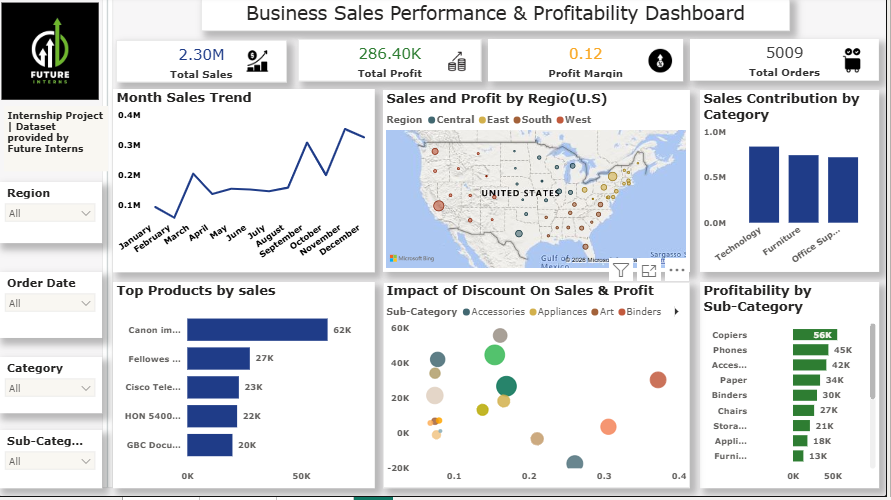

What the dashboard file says about the page in this screenshot:
{"tool":"powerbi","page":{"name":"Page 2","canvas":[1280,720],"ordinal":1},"visuals":[{"type":"textbox","box":[292.3,0,848.2,49],"z":0},{"type":"shape","box":[150,0,15.7,707.1],"z":1000},{"type":"slicer","fields":{"Values":["Sample Superstore.Region"]},"box":[0,266.4,149.8,87.8],"z":2000},{"type":"slicer","fields":{"Values":["Sample Superstore.Order Date"]},"box":[0,396,149.8,95],"z":3000},{"type":"slicer","fields":{"Values":["Sample Superstore.Category"]},"box":[0,518.4,149.8,80.6],"z":4000},{"type":"slicer","fields":{"Values":["Sample Superstore.Sub-Category"]},"box":[0,623.5,149.8,83.5],"z":5000},{"type":"card","fields":{"Values":["Sample Superstore.Total Sales"]},"box":[170,61.4,245.7,61.4],"z":6000},{"type":"card","fields":{"Values":["Sample Superstore.Total Profit"]},"box":[431.4,60,264.3,61.4],"z":7000},{"type":"card","fields":{"Values":["Sample Superstore.Profit Margin"]},"box":[705.7,60,281.4,61.4],"z":8000},{"type":"card","fields":{"Values":["Sample Superstore.Total Orders"]},"box":[996.5,60.5,272.2,60.5],"z":9000},{"type":"image","box":[351.4,67.1,44.3,48.6],"z":10000},{"type":"image","box":[639.4,69.1,43.2,47.5],"z":11000},{"type":"image","box":[931.4,67.1,44.3,48.6],"z":12000},{"type":"image","box":[1206.7,67.7,44.6,47.5],"z":13000},{"type":"lineChart","title":" Month Sales Trend","fields":{"Category":["Sample Superstore.Order Date.Variation.Date Hierarchy.Year","Sample Superstore.Order Date.Variation.Date Hierarchy.Month"],"Y":["Sum(Sample Superstore.Sales)"]},"box":[165.6,132.5,377.3,263.5],"z":14000},{"type":"map","title":"Sales and  Profit by Regio(U.S)","fields":{"Category":["Sample Superstore.State"],"Series":["Sample Superstore.Region"],"Size":["Sum(Sample Superstore.Sales)"]},"box":[554.4,133.9,442.1,262.1],"z":15000},{"type":"columnChart","title":"Sales Contribution by Category","fields":{"Category":["Sample Superstore.Category"],"Y":["Sum(Sample Superstore.Sales)"]},"box":[1010.9,133.9,257.8,262.1],"z":16000},{"type":"barChart","title":"Top Products by sales","fields":{"Category":["Sample Superstore.Product Name"],"Y":["Sum(Sample Superstore.Sales)"]},"box":[165.6,410.4,377.3,296.6],"z":17000},{"type":"clusteredBarChart","title":"Profitability by  Sub-Category","fields":{"Category":["Sample Superstore.Sub-Category"],"Y":["Sum(Sample Superstore.Profit)"]},"box":[1010.9,410.4,257.8,296.6],"z":18000},{"type":"scatterChart","title":"Impact of Discount On Sales & Profit","fields":{"X":["Avg(Sample Superstore.Discount)"],"Y":["Sum(Sample Superstore.Profit)"],"Size":["Sum(Sample Superstore.Sales)"],"Series":["Sample Superstore.Sub-Category"]},"box":[554.4,410.4,442.1,296.6],"z":19000},{"type":"image","box":[0,0,149.8,157],"z":19001},{"type":"textbox","box":[8.6,157,149.8,93.6],"z":19002}]}

Visuals, with their boxes in screenshot pixels (x1, y1, x2, y2), scaled from the page's 1280x720 canvas onto the 891x500 screenshot:
textbox: select_region(203, 0, 794, 34)
shape: select_region(104, 0, 115, 491)
slicer - Sample Superstore.Region: select_region(0, 185, 104, 246)
slicer - Sample Superstore.Order Date: select_region(0, 275, 104, 341)
slicer - Sample Superstore.Category: select_region(0, 360, 104, 416)
slicer - Sample Superstore.Sub-Category: select_region(0, 433, 104, 491)
card - Sample Superstore.Total Sales: select_region(118, 43, 289, 85)
card - Sample Superstore.Total Profit: select_region(300, 42, 484, 84)
card - Sample Superstore.Profit Margin: select_region(491, 42, 687, 84)
card - Sample Superstore.Total Orders: select_region(694, 42, 883, 84)
image: select_region(245, 47, 275, 80)
image: select_region(445, 48, 475, 81)
image: select_region(648, 47, 679, 80)
image: select_region(840, 47, 871, 80)
" Month Sales Trend" lineChart: select_region(115, 92, 378, 275)
"Sales and  Profit by Regio(U.S)" map: select_region(386, 93, 694, 275)
"Sales Contribution by Category" columnChart: select_region(704, 93, 883, 275)
"Top Products by sales" barChart: select_region(115, 285, 378, 491)
"Profitability by  Sub-Category" clusteredBarChart: select_region(704, 285, 883, 491)
"Impact of Discount On Sales & Profit" scatterChart: select_region(386, 285, 694, 491)
image: select_region(0, 0, 104, 109)
textbox: select_region(6, 109, 110, 174)
